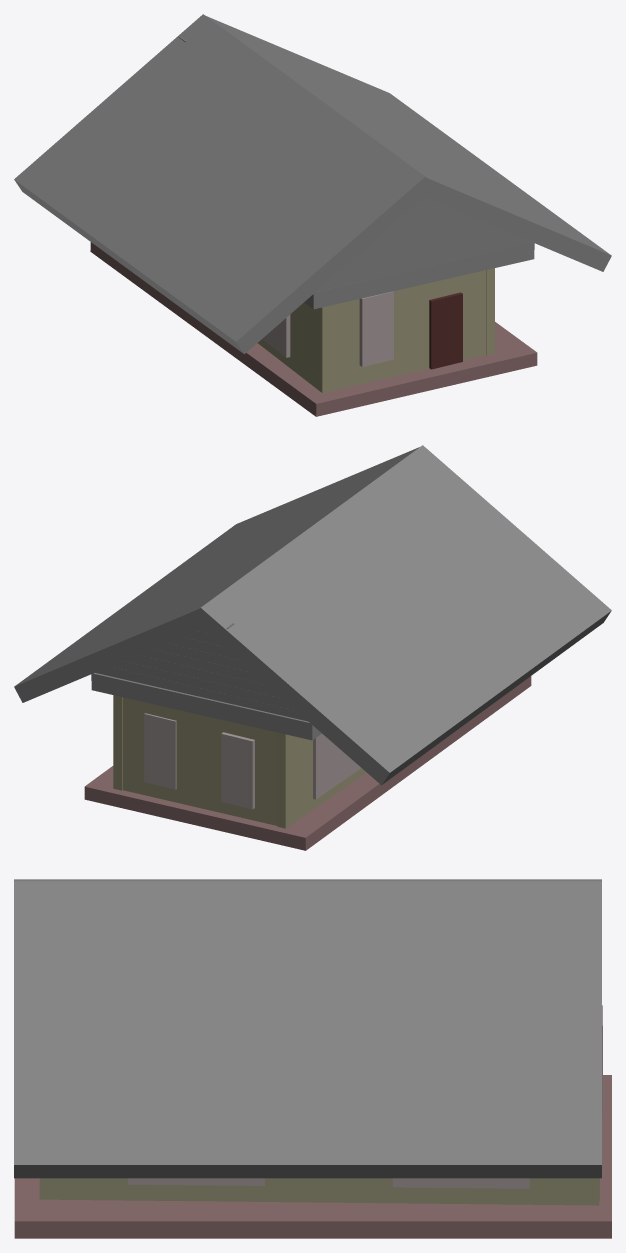
File: yellow house.fbx
3 views of the same model, one above another, from view 1: azimuth 30°, elevation 25°; view 2: azimuth 150°, elevation 25°; view 3: azimuth 270°, elevation 25° (orthographic). The views are drawn at different scales.
Visible parts, largest first — view 1: pCube163; view 2: pCube163; view 3: pCube163.
Part boxes in pixels (x1,y1,x2,y2): pCube163: (14, 14, 611, 416); pCube163: (14, 445, 611, 850); pCube163: (14, 879, 611, 1238).
Size of the model in its own units: 18.79 by 10.34 by 19.56.
